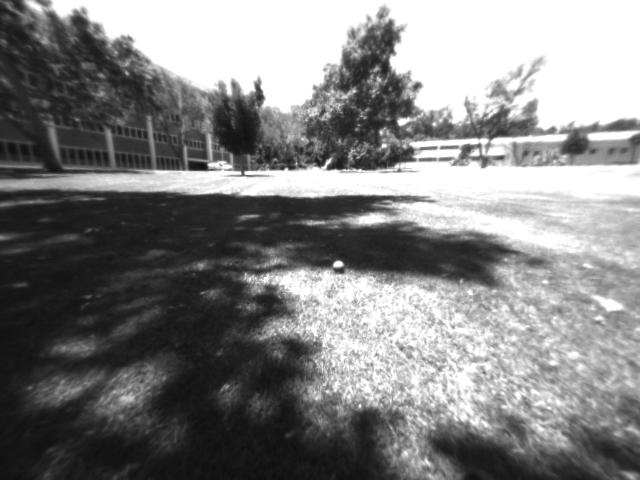dogtoy: (329, 256, 350, 272)
